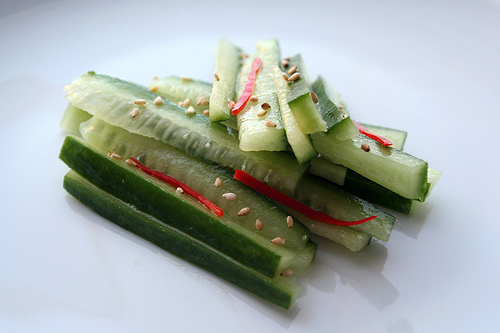cucumber: (62, 36, 443, 309)
